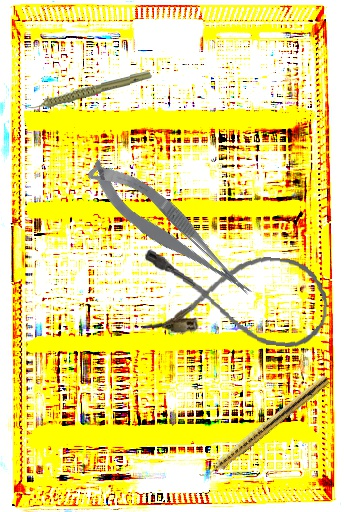Cannula: (136, 244, 334, 351)
Handpiece: (197, 372, 331, 484), (21, 69, 153, 111)
Micro Scissor: (80, 143, 259, 319)
